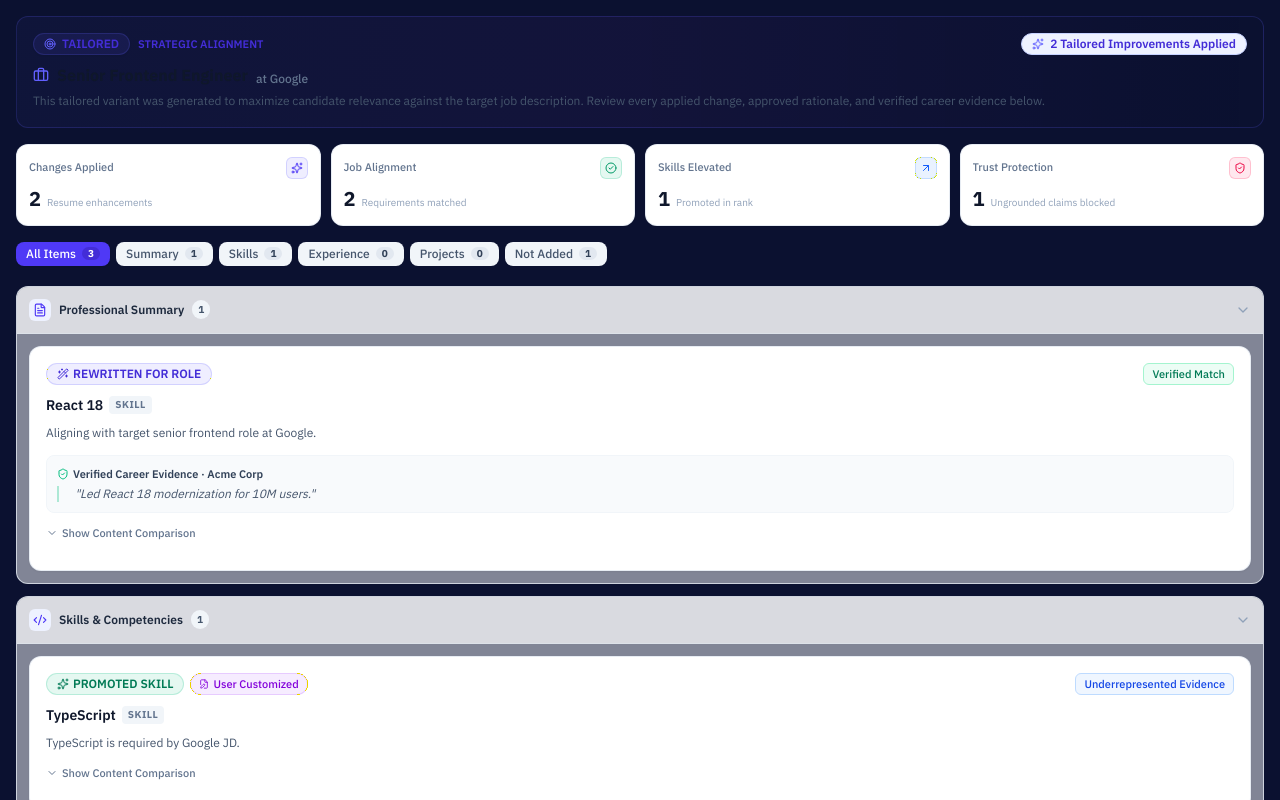
Test: Phase 6E.3 Component Tests: Tailoring Insights UI Panel › Scenario 20: Category filter pills toggle visible cards correctly
Check: the text "React 18" is shown, box [46,395,103,415]
Check: the text "TypeScript" is shown, box [46,705,116,725]
# Click 'Summary' filter pill
Step 1. Click the button with aria-label "filter by summary" → (164, 254), box [116,242,213,266]
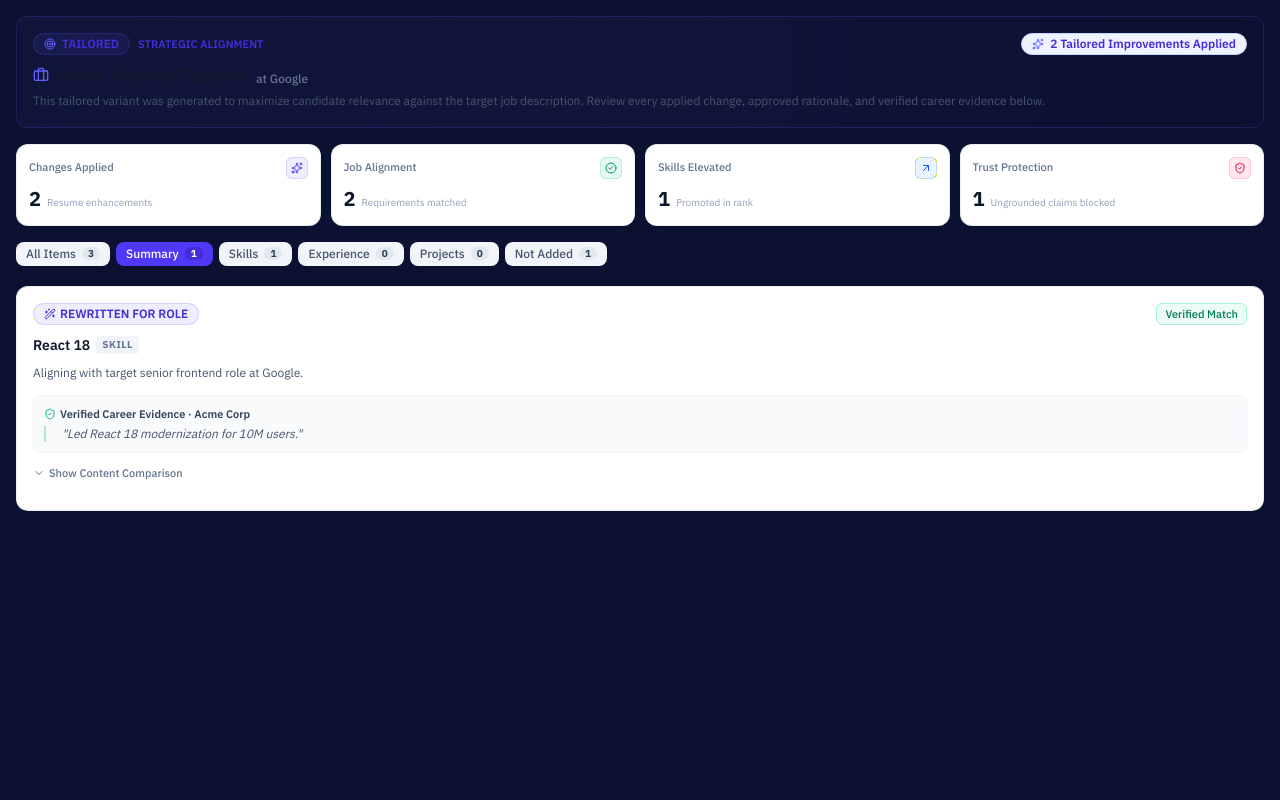
Check: the text "React 18" is shown, box [33,335,90,355]
Check: the text "TypeScript" is gone
# Click 'Not Added' filter pill
Step 2. Click the button with aria-label "filter by not added" → (556, 254), box [505,242,607,266]
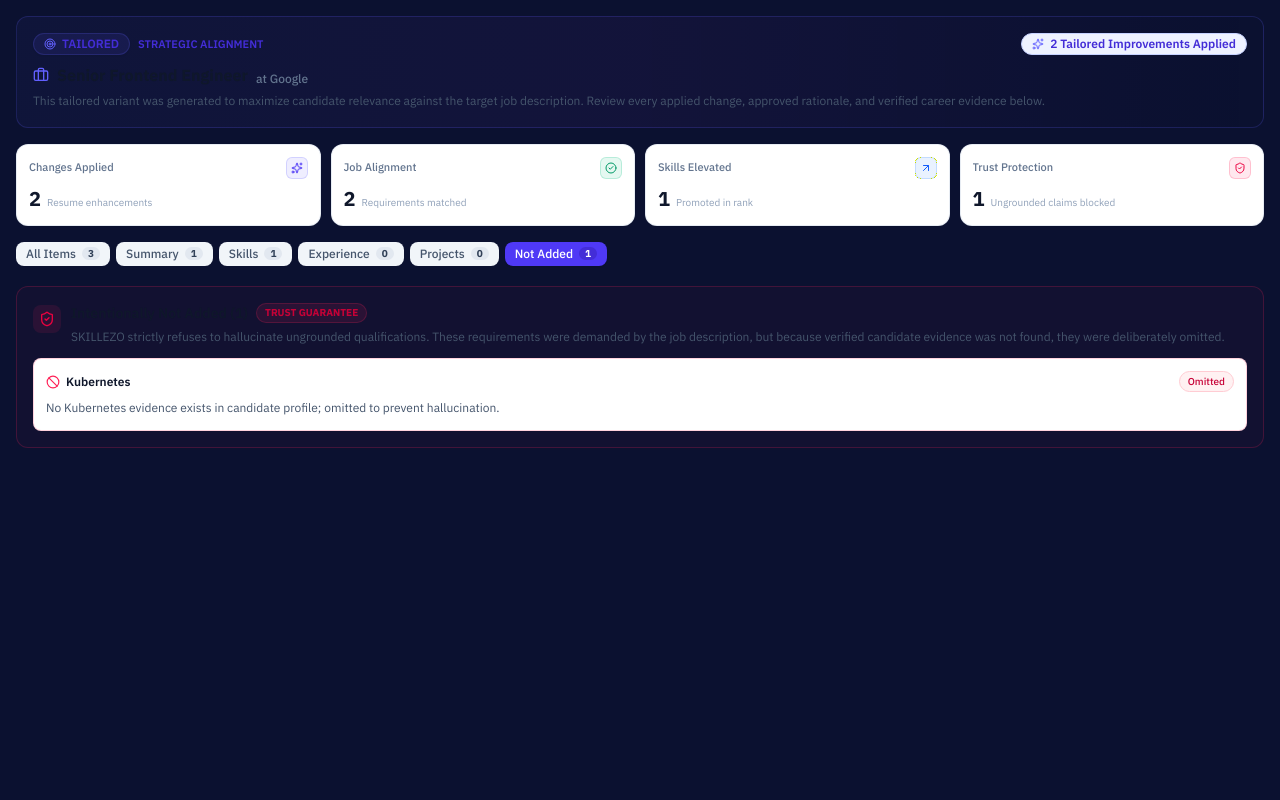
Check: the text "Kubernetes" is shown, box [66,374,130,390]
Check: the text "React 18" is gone
